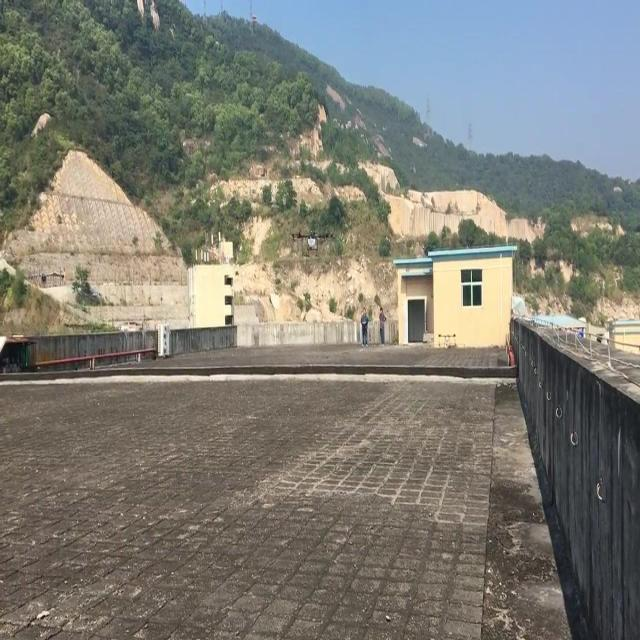drone: (290, 220, 338, 257)
